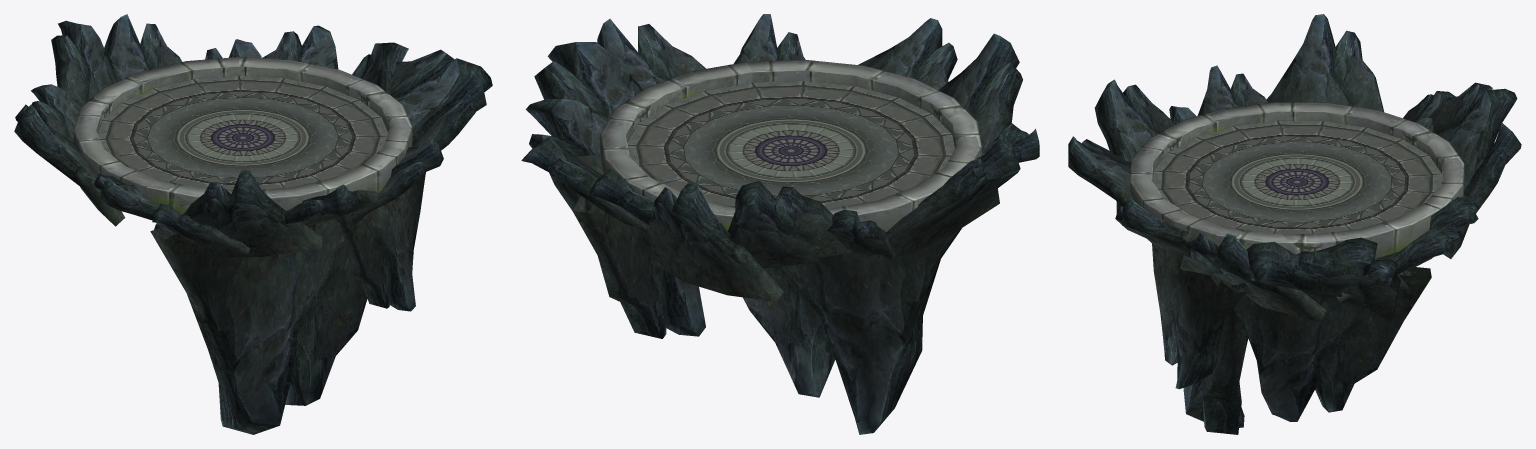
File: Mowu_Dimian_01.FBX
3 views of the same model, side by side, from view 1: azimuth 30°, elevation 25°; view 2: azimuth 150°, elevation 25°; view 3: azimuth 270°, elevation 25° (orthographic). The views are drawn at different scales.
Parts seen in each view (by area): view 1: Mowu_Dimian; view 2: Mowu_Dimian; view 3: Mowu_Dimian.
Boxes of the visible parts, bbox=[...] form: Mowu_Dimian: bbox=[14, 14, 492, 434]; Mowu_Dimian: bbox=[521, 14, 1039, 434]; Mowu_Dimian: bbox=[1068, 14, 1521, 434].
Bounding box in the file's own units: 1128 × 814 × 1002.
